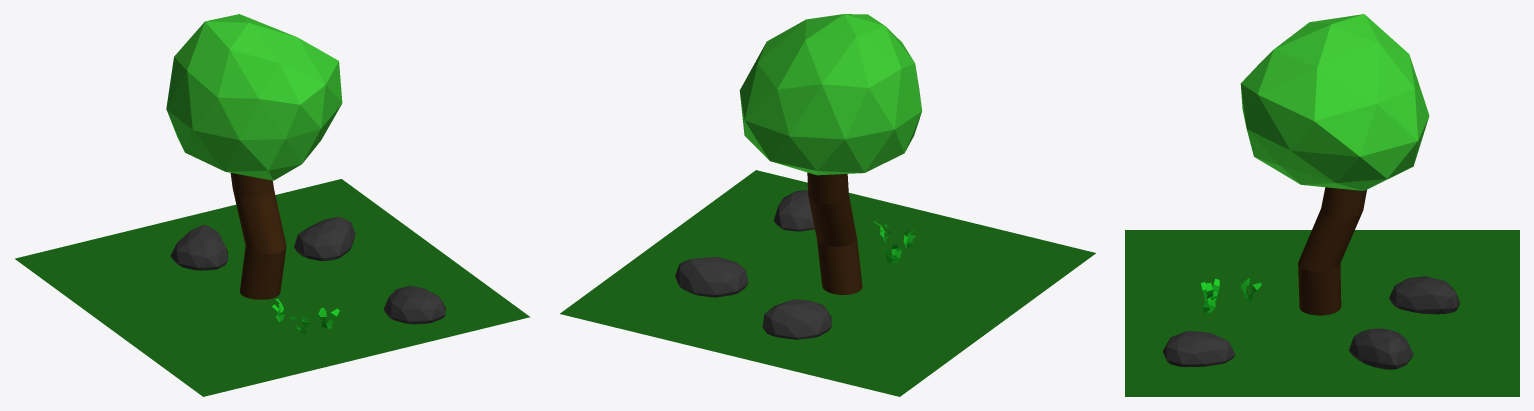
Rendered from Tree.obj.
The picture shows the model from 3 angles, left to right: view 1: azimuth 30°, elevation 25°; view 2: azimuth 150°, elevation 25°; view 3: azimuth 270°, elevation 25°; orthographic projection. The views are drawn at different scales.
Visible parts, largest first — view 1: Plane, Icosphere, Cylinder, Icosphere.002_Icosphere.003, Icosphere.003_Icosphere.004, Icosphere.001_Icosphere.002; view 2: Plane, Icosphere, Cylinder, Icosphere.002_Icosphere.003, Icosphere.003_Icosphere.004, Icosphere.001_Icosphere.002; view 3: Plane, Icosphere, Cylinder, Icosphere.003_Icosphere.004, Icosphere.001_Icosphere.002, Icosphere.002_Icosphere.003.
Boxes of the visible parts, x1=… form: Plane: x1=15, y1=179, x2=530, y2=396; Icosphere: x1=166, y1=14, x2=342, y2=180; Cylinder: x1=230, y1=173, x2=286, y2=299; Icosphere.002_Icosphere.003: x1=294, y1=217, x2=355, y2=260; Icosphere.003_Icosphere.004: x1=170, y1=224, x2=227, y2=270; Icosphere.001_Icosphere.002: x1=384, y1=285, x2=445, y2=324; Plane: x1=560, y1=170, x2=1095, y2=396; Icosphere: x1=739, y1=14, x2=921, y2=175; Cylinder: x1=807, y1=172, x2=862, y2=294; Icosphere.002_Icosphere.003: x1=675, y1=256, x2=748, y2=297; Icosphere.003_Icosphere.004: x1=762, y1=299, x2=831, y2=339; Icosphere.001_Icosphere.002: x1=773, y1=190, x2=814, y2=231; Plane: x1=1125, y1=230, x2=1519, y2=396; Icosphere: x1=1240, y1=14, x2=1429, y2=190; Cylinder: x1=1298, y1=187, x2=1366, y2=315; Icosphere.003_Icosphere.004: x1=1389, y1=276, x2=1459, y2=314; Icosphere.001_Icosphere.002: x1=1162, y1=330, x2=1235, y2=367; Icosphere.002_Icosphere.003: x1=1349, y1=328, x2=1413, y2=369.
Bounding box in the file's own units: 2 × 1.62 × 2.
